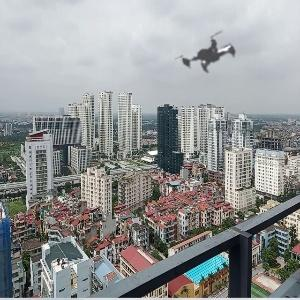drone: (159, 6, 268, 115)
